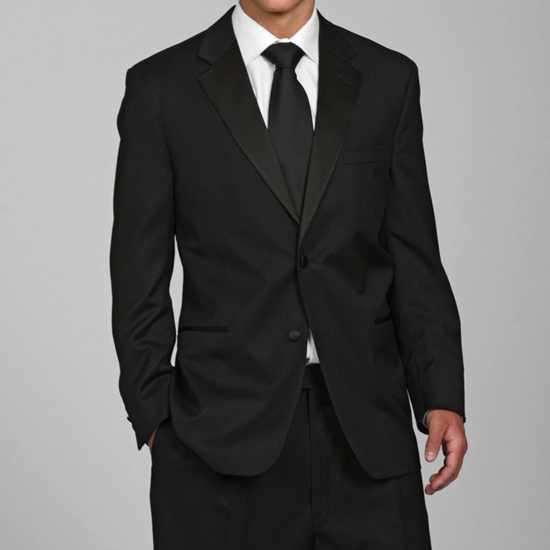tie: (251, 35, 333, 224)
